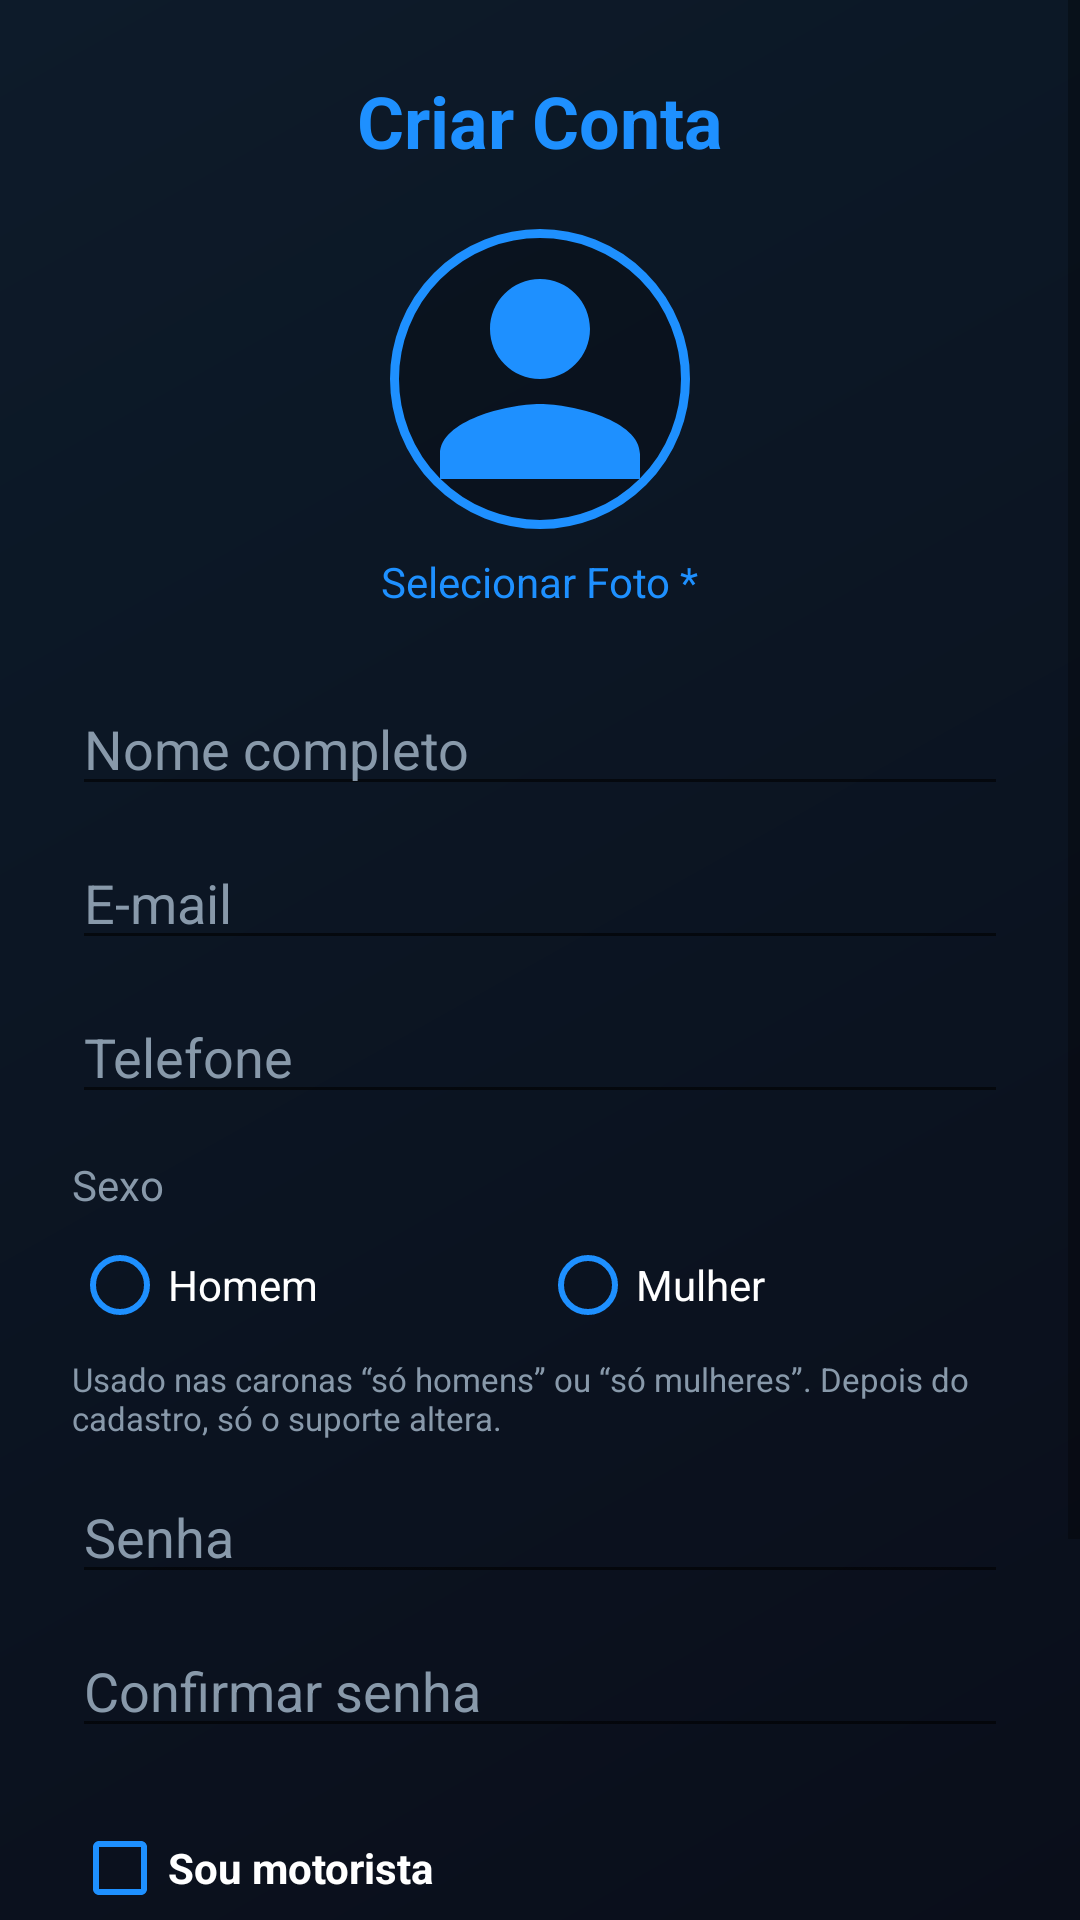

Named icons in this screenshot (1080*1920) and their bounding boxes, (x1, y1, x2, y2):
Foto de perfil: (390, 229, 690, 529)
